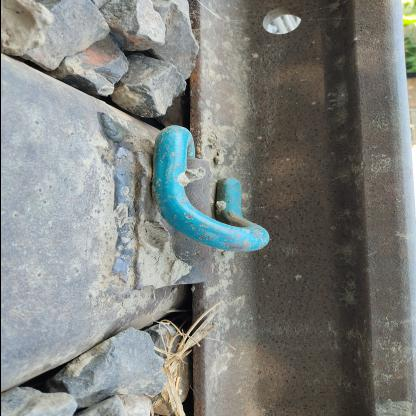Non Defective: (84, 87, 306, 308)
